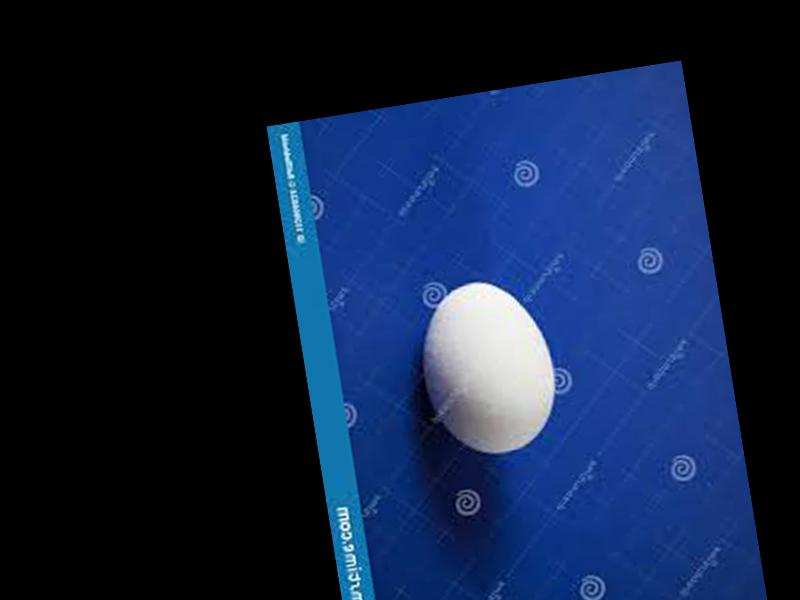Eggs: (410, 272, 563, 464)
